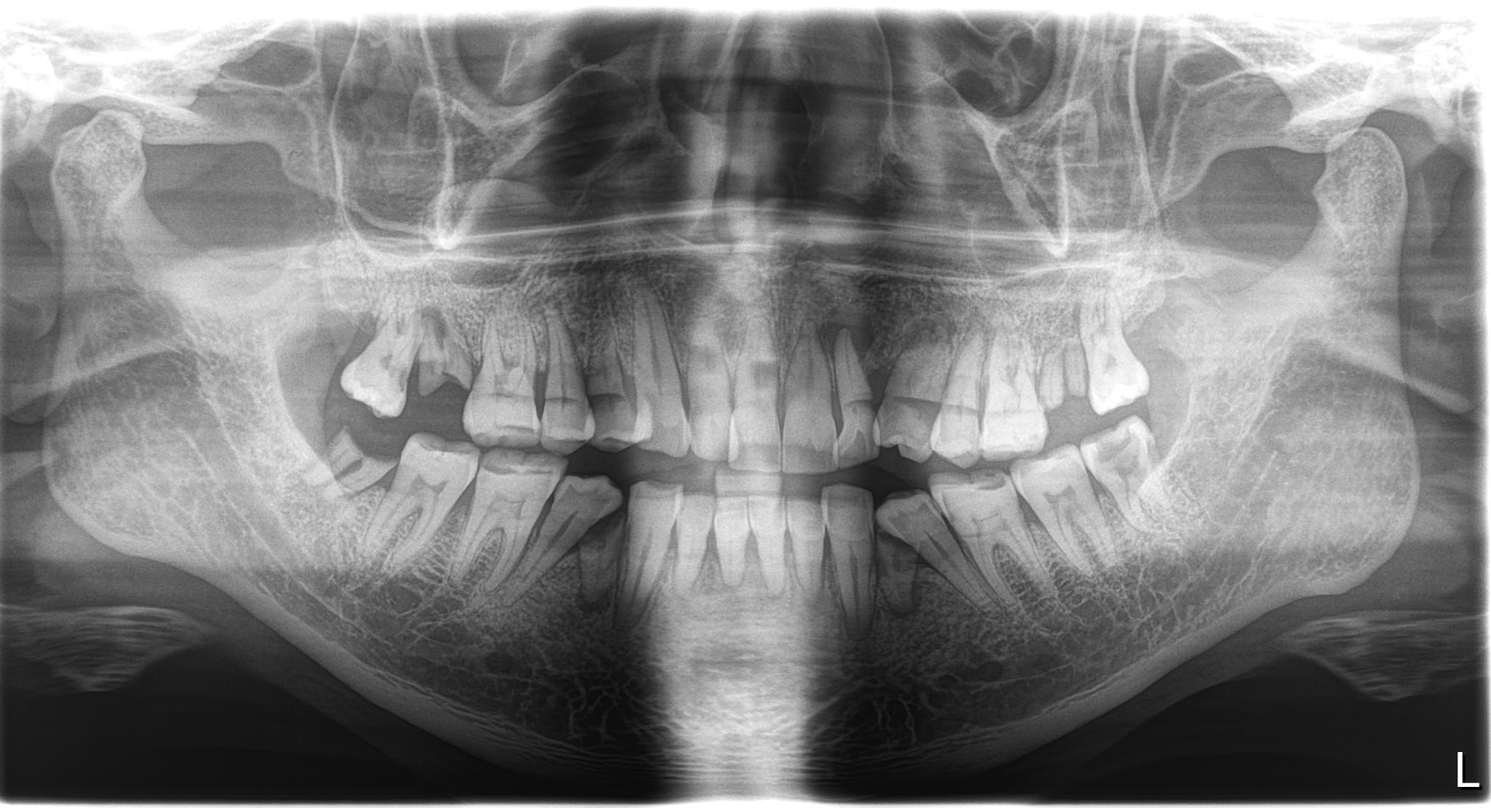Impacted Third Molar: (1092, 433, 1173, 550), (319, 418, 397, 497)
Retained Root: (422, 325, 471, 414), (1043, 340, 1093, 427)
